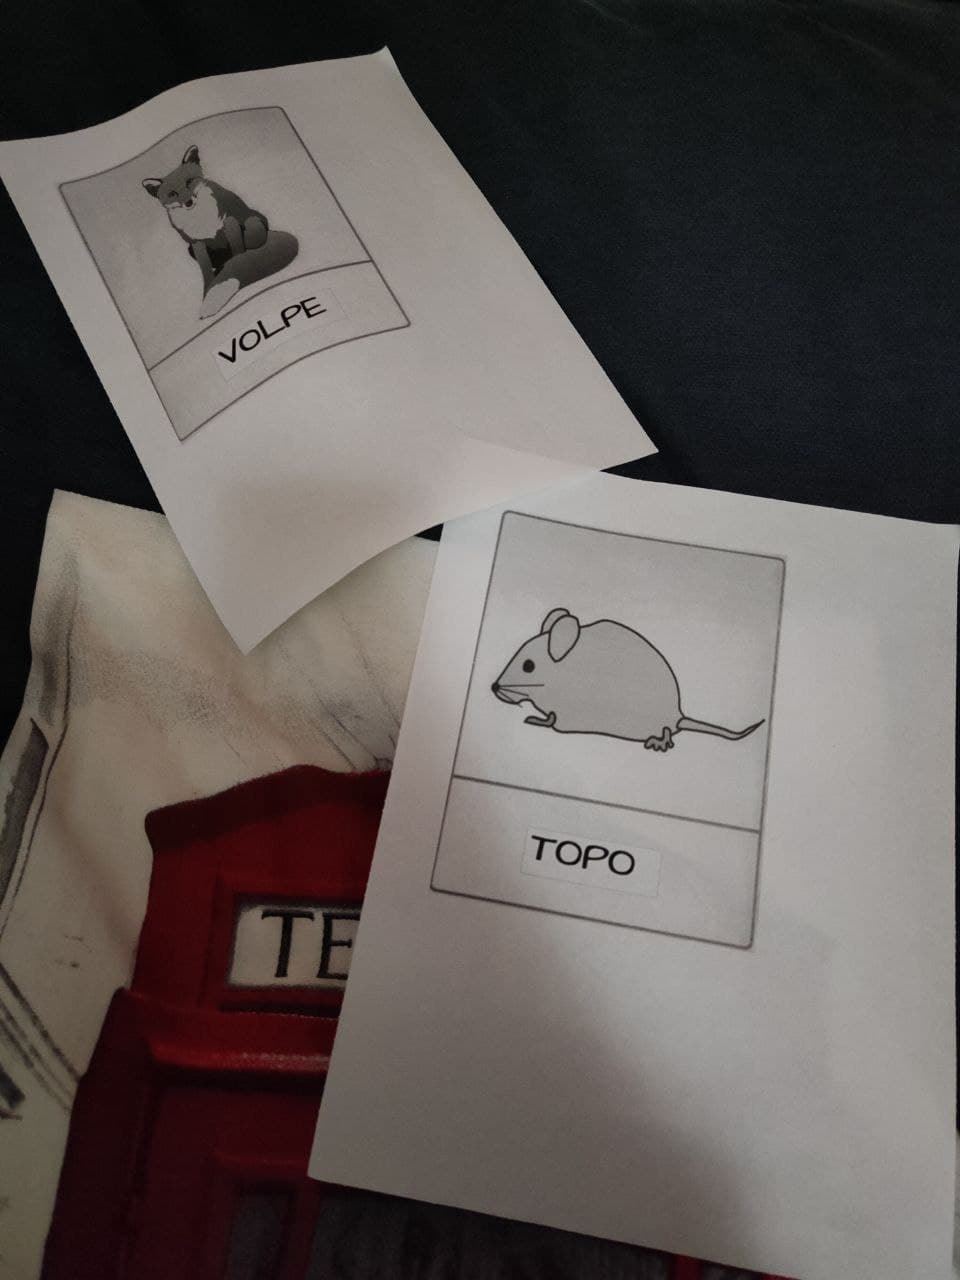topo: (484, 560, 771, 935)
volpe: (91, 147, 367, 369)
